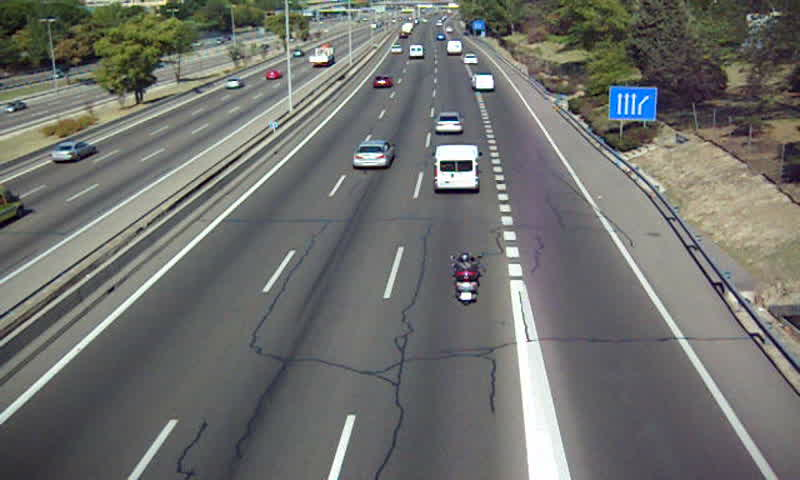car: (354, 141, 395, 169), (436, 112, 464, 135), (372, 76, 391, 89)
motorcycle: (451, 251, 482, 308)
van: (434, 144, 478, 194), (468, 73, 495, 92)
